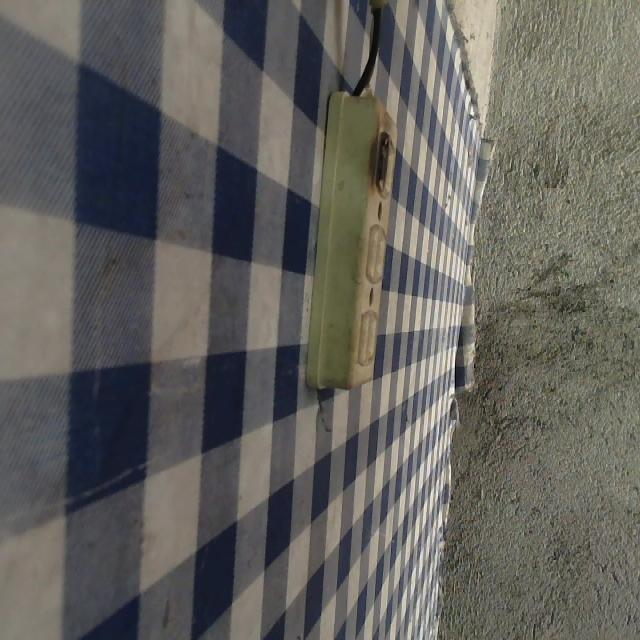-: (366, 125, 391, 199)
